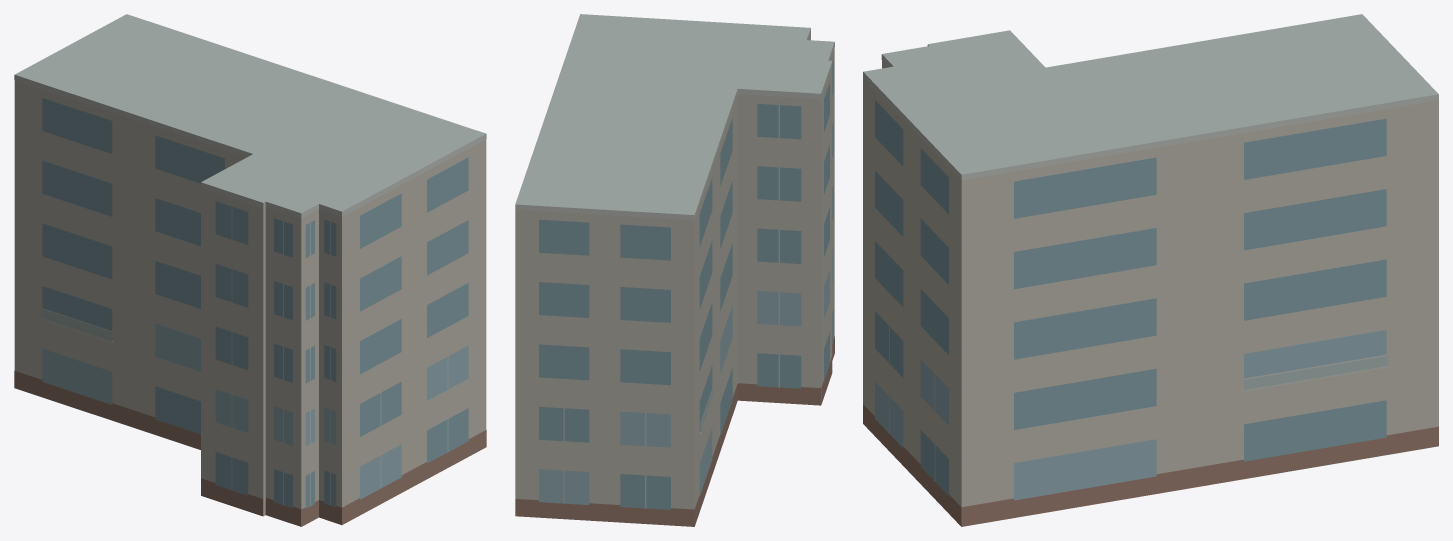
File: survey-upis-32768076.glb
The picture shows the model from 3 angles, left to right: view 1: azimuth 30°, elevation 25°; view 2: azimuth 150°, elevation 25°; view 3: azimuth 270°, elevation 25°; orthographic projection. The views are drawn at different scales.
Parts seen in each view (by area): view 1: survey-upis-32768076.tmp; view 2: survey-upis-32768076.tmp; view 3: survey-upis-32768076.tmp.
Part boxes in pixels (box(x1,y1,x2,y2)): survey-upis-32768076.tmp: box(14, 14, 486, 526); survey-upis-32768076.tmp: box(515, 14, 834, 526); survey-upis-32768076.tmp: box(863, 14, 1438, 526).
Size of the model in its own units: 14.21 by 14.5 by 21.5.
